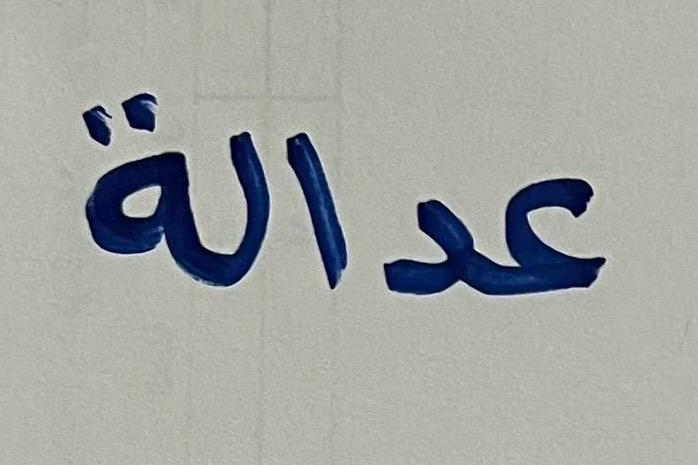ain: (480, 103, 650, 341)
alef: (279, 109, 359, 380)
dal: (362, 133, 478, 372)
lam: (199, 98, 276, 362)
teh_marbota: (54, 85, 196, 309)
